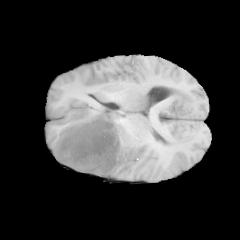glioma: (53, 109, 121, 177)
